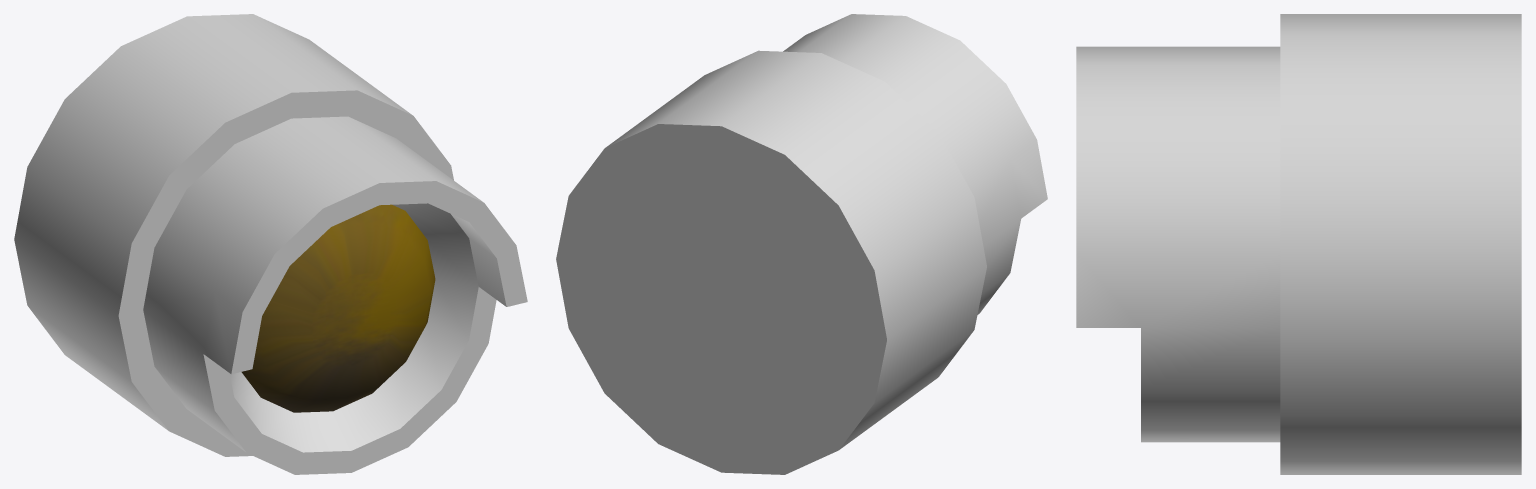
File: lamp.fbx
3 views of the same model, side by side, from view 1: azimuth 30°, elevation 25°; view 2: azimuth 150°, elevation 25°; view 3: azimuth 270°, elevation 25° (orthographic). The views are drawn at different scales.
Visible parts, largest first — view 1: Cylinder.002; view 2: Cylinder.002; view 3: Cylinder.002.
Part boxes in pixels (x1,y1,x2,y2): Cylinder.002: (14,14,527,474); Cylinder.002: (556,14,1047,474); Cylinder.002: (1076,14,1521,474).
Size of the model in its own units: 46.9 by 46.9 by 45.23.
